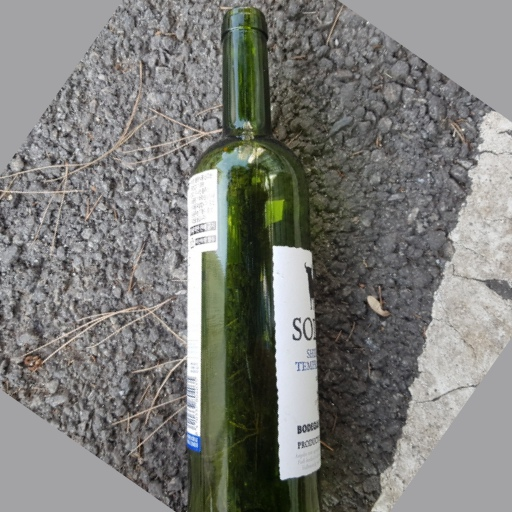Glass_2: (181, 10, 326, 512)
